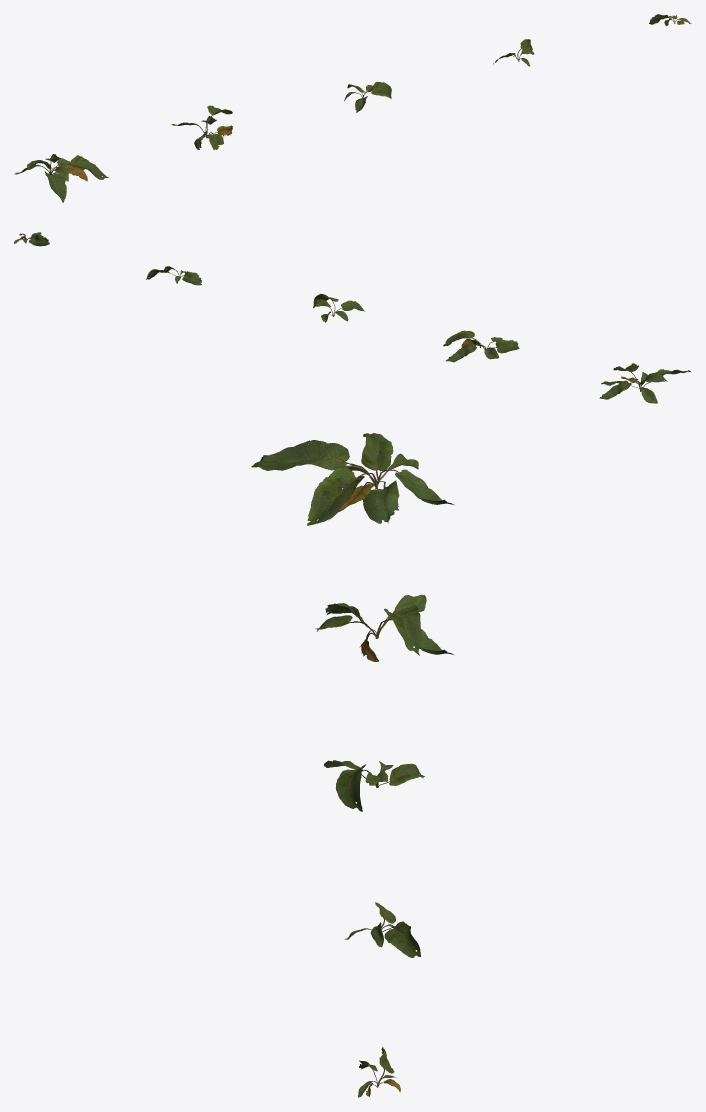
Rendered from weed_plant_02.gltf.
The picture shows the model from 3 angles, top to bottom: view 1: azimuth 30°, elevation 25°; view 2: azimuth 150°, elevation 25°; view 3: azimuth 270°, elevation 25°; orthographic projection. The views are drawn at different scales.
Visible parts, largest first — view 1: weed_plant_02_a_LOD0, weed_plant_02_b_LOD0, weed_plant_02_c_LOD0, weed_plant_02_d_LOD0; view 2: weed_plant_02_a_LOD0, weed_plant_02_b_LOD0, weed_plant_02_c_LOD0, weed_plant_02_d_LOD0, weed_plant_02_e_LOD0; view 3: weed_plant_02_a_LOD0, weed_plant_02_b_LOD0, weed_plant_02_c_LOD0, weed_plant_02_d_LOD0.
Boxes of the visible parts, x1,y1,x2,y2 form: weed_plant_02_a_LOD0: [14, 154, 108, 202]; weed_plant_02_b_LOD0: [171, 105, 232, 149]; weed_plant_02_c_LOD0: [344, 81, 391, 112]; weed_plant_02_d_LOD0: [493, 39, 534, 66]; weed_plant_02_a_LOD0: [599, 363, 690, 403]; weed_plant_02_b_LOD0: [443, 330, 519, 362]; weed_plant_02_c_LOD0: [313, 294, 364, 322]; weed_plant_02_d_LOD0: [146, 266, 201, 285]; weed_plant_02_e_LOD0: [14, 232, 49, 246]; weed_plant_02_a_LOD0: [251, 433, 454, 525]; weed_plant_02_b_LOD0: [315, 594, 453, 661]; weed_plant_02_c_LOD0: [324, 760, 424, 811]; weed_plant_02_d_LOD0: [345, 902, 420, 957].
Bounding box in the file's own units: 2.13 × 0.0751 × 0.2909.
Materials: 1 (1 with a texture image).
